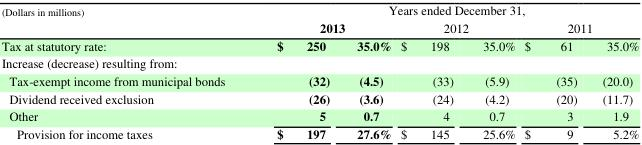table: (0, 1, 638, 142)
table column: (0, 1, 250, 142), (250, 1, 342, 142), (395, 1, 467, 142), (519, 1, 589, 142), (342, 1, 395, 142), (467, 1, 519, 142), (589, 1, 638, 142)
table column header: (0, 1, 638, 54)
table projected row header: (0, 54, 638, 71)
table row: (0, 18, 638, 36), (0, 36, 638, 54), (0, 71, 638, 89), (0, 89, 638, 107), (0, 124, 638, 142), (0, 1, 638, 18), (0, 54, 638, 71), (0, 107, 638, 124)
table spanning cell: (0, 1, 250, 54), (250, 1, 638, 18), (250, 18, 395, 36), (395, 18, 519, 36), (519, 18, 638, 36)
